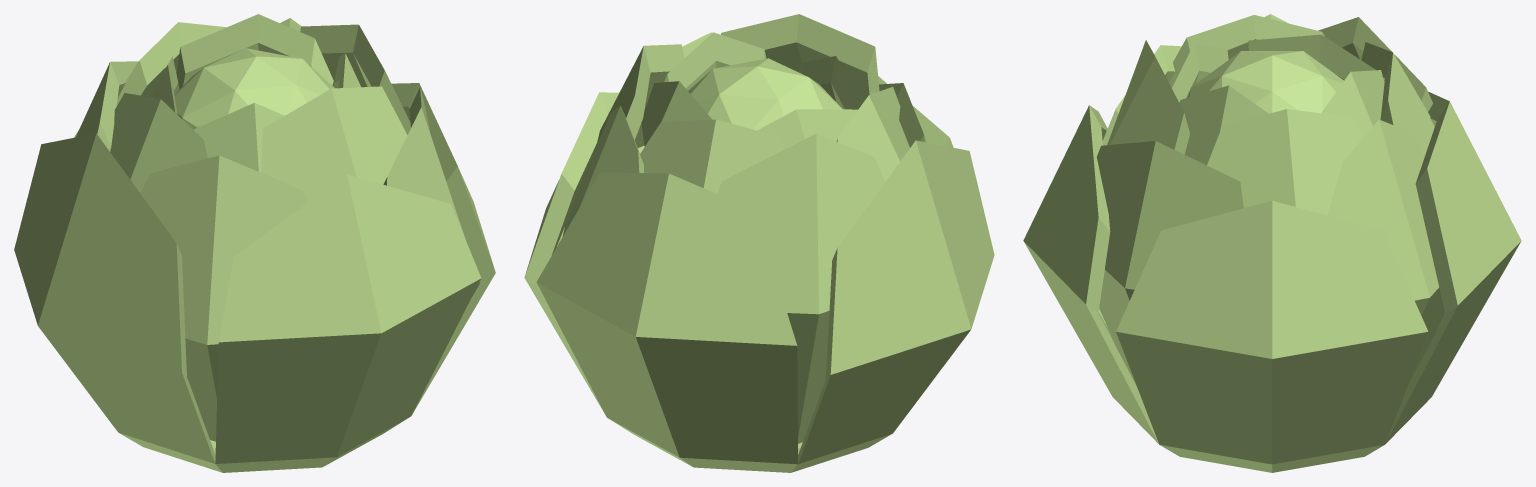
The model's file is Cabbage_01.gltf.
3 views of the same model, side by side, from view 1: azimuth 30°, elevation 25°; view 2: azimuth 150°, elevation 25°; view 3: azimuth 270°, elevation 25° (orthographic). The views are drawn at different scales.
Parts seen in each view (by area): view 1: node-0; view 2: node-0; view 3: node-0.
Boxes of the visible parts, <box> form: node-0: <box>14,14,495,472</box>; node-0: <box>524,14,994,472</box>; node-0: <box>1023,14,1521,472</box>.
Bounding box in the file's own units: 11.36 × 9.62 × 11.27.
